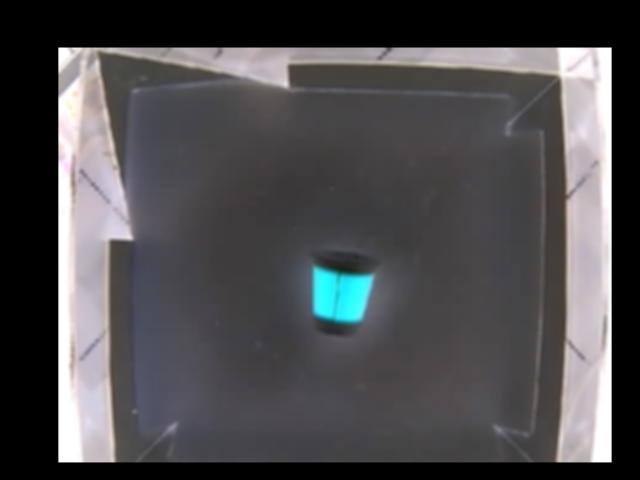Cup: (306, 248, 379, 337)
